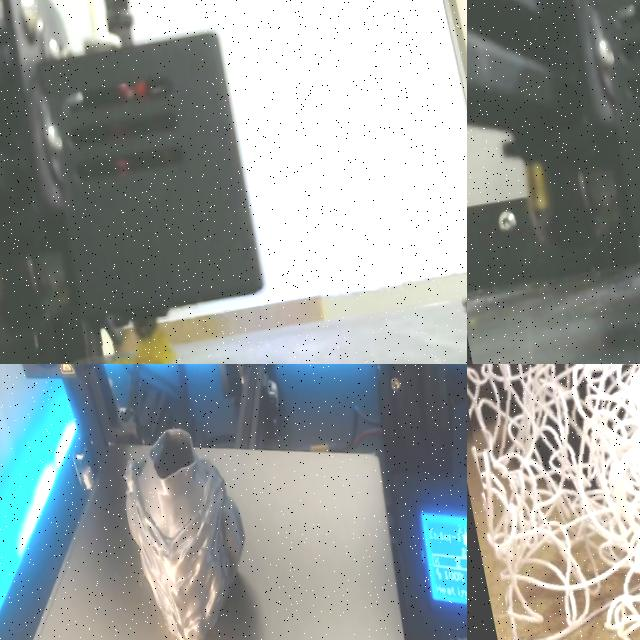spaghetti: (467, 364, 640, 640), (109, 328, 175, 364)
